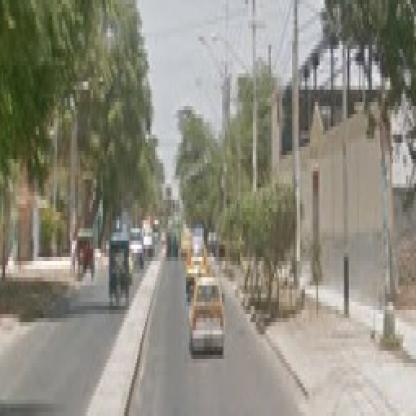Vehiculo: (190, 278, 228, 360), (110, 233, 130, 307)
